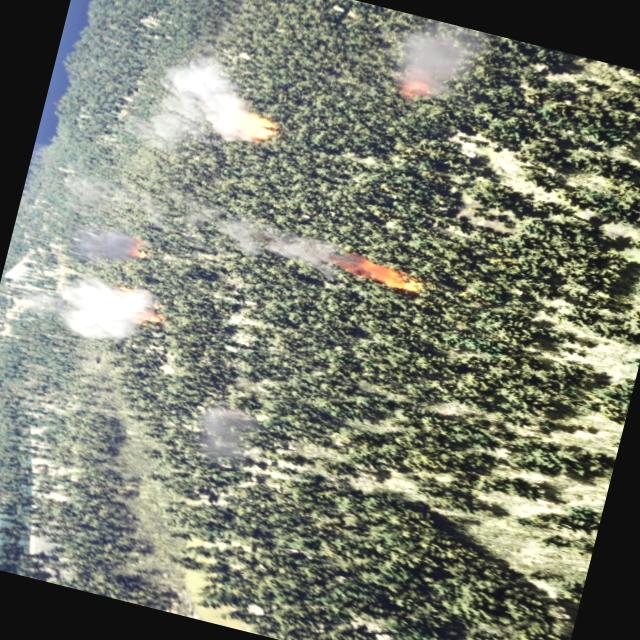fire: (347, 253, 428, 300), (104, 280, 166, 330), (245, 111, 274, 140), (132, 237, 152, 255)
smoke: (126, 42, 280, 165), (180, 200, 366, 279), (44, 268, 171, 358), (376, 10, 480, 110), (188, 398, 262, 462), (86, 222, 146, 264)
